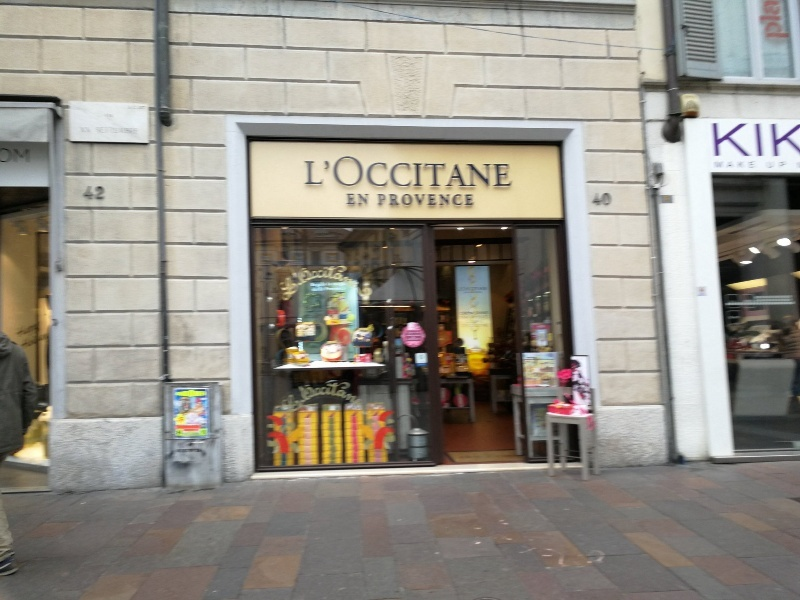text: (497, 154, 513, 190), (305, 260, 320, 298), (321, 260, 336, 298), (337, 260, 352, 298), (353, 260, 368, 298), (769, 1, 784, 38), (305, 154, 320, 190), (321, 154, 336, 190), (337, 154, 352, 190), (353, 154, 368, 190), (369, 154, 384, 190), (385, 154, 400, 190), (401, 154, 416, 190), (417, 154, 432, 190), (433, 154, 448, 190), (449, 154, 464, 190), (465, 154, 480, 190), (481, 154, 496, 190), (721, 124, 736, 157), (737, 124, 752, 157), (753, 124, 768, 157), (769, 124, 784, 157), (785, 124, 800, 157), (305, 377, 320, 409), (321, 377, 336, 409), (337, 377, 352, 409), (289, 391, 304, 422), (289, 272, 301, 305), (353, 377, 364, 409), (278, 272, 288, 305), (296, 260, 304, 298), (712, 124, 720, 157), (761, 1, 768, 38), (280, 391, 288, 422), (17, 148, 32, 164), (785, 1, 791, 38), (353, 193, 368, 207), (385, 194, 400, 208), (401, 194, 416, 208), (417, 194, 432, 208), (433, 194, 448, 208), (449, 194, 464, 208), (595, 192, 608, 207), (298, 377, 304, 409), (369, 260, 374, 298), (465, 194, 476, 208), (97, 185, 106, 200), (769, 161, 784, 170), (97, 127, 112, 135), (113, 127, 128, 135), (88, 185, 96, 200), (721, 161, 736, 169), (737, 161, 752, 169), (377, 194, 384, 208), (129, 105, 144, 111), (465, 286, 480, 292), (346, 193, 352, 207), (465, 311, 480, 316), (465, 323, 480, 328), (465, 315, 480, 320), (129, 127, 138, 135), (81, 127, 92, 133), (609, 192, 613, 207), (714, 161, 720, 169), (465, 291, 480, 294), (481, 311, 490, 316), (481, 323, 490, 328), (481, 315, 490, 320), (481, 286, 488, 292), (103, 114, 112, 118), (458, 286, 464, 292), (753, 161, 757, 169), (765, 161, 768, 170), (459, 311, 464, 316), (459, 315, 464, 320), (785, 161, 787, 170), (369, 193, 370, 207), (462, 323, 464, 328), (481, 291, 484, 294), (95, 127, 96, 135), (113, 114, 115, 118), (145, 105, 146, 111), (463, 291, 464, 294)
